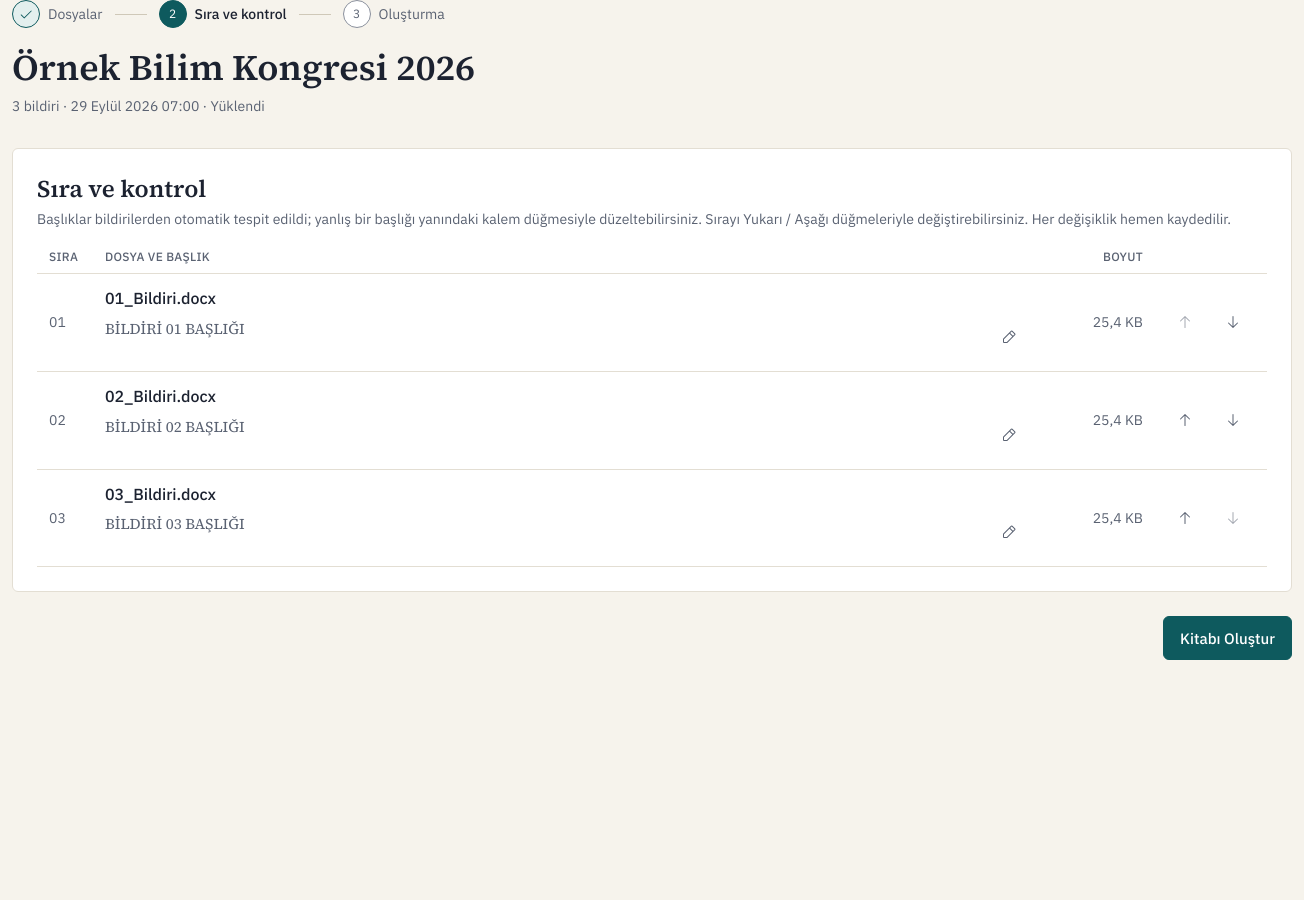
Scenario: BookPage — order step › "Aşağı" moves the paper and sends the whole new order
Step 1. Click the button named "01_Bildiri.docx dosyasını aşağı taşı" → (1233, 322), box [1211,300,1255,344]
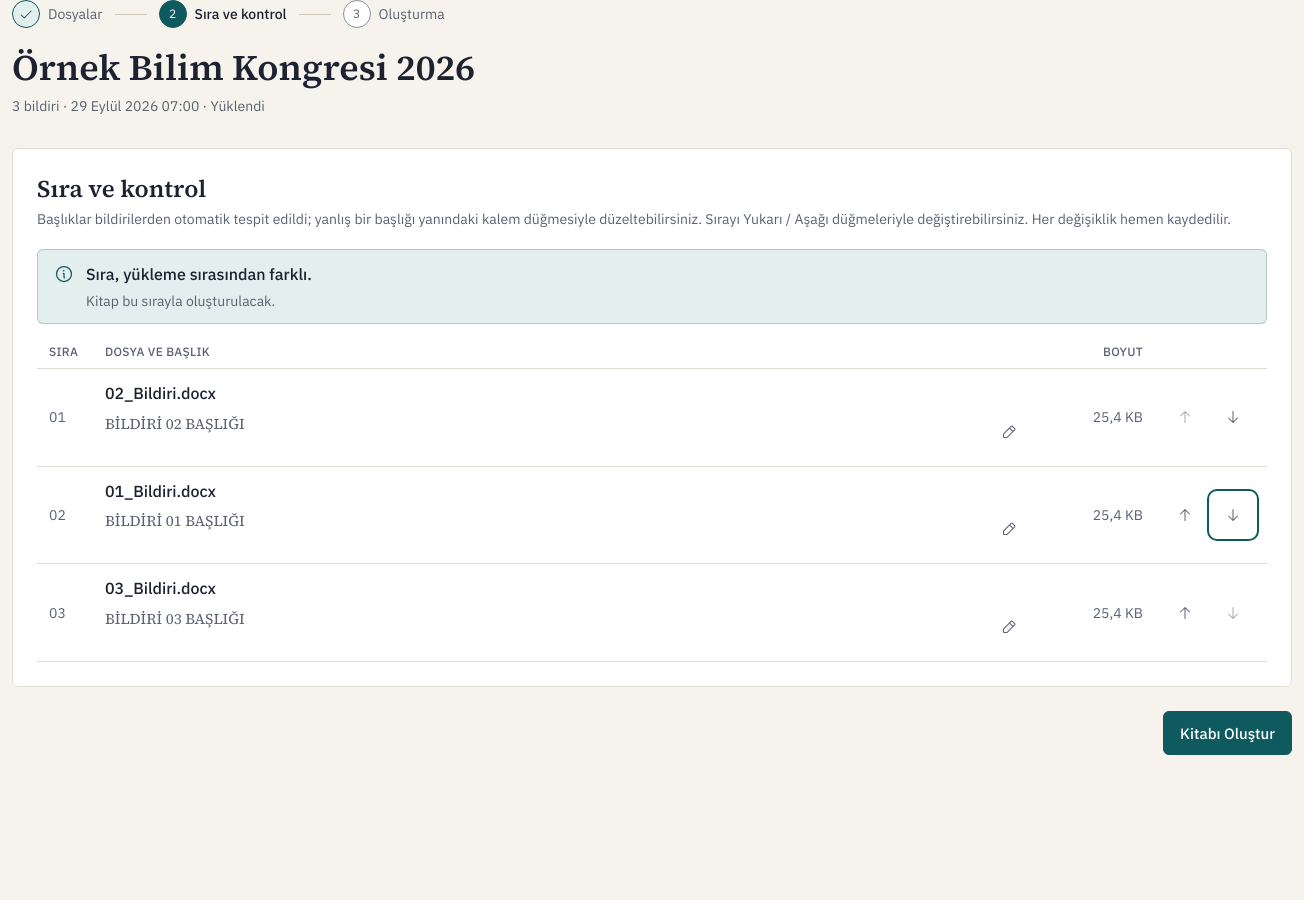
Now the text "Sıra, yükleme sırasından farklı." is shown, box [86,262,312,287]
